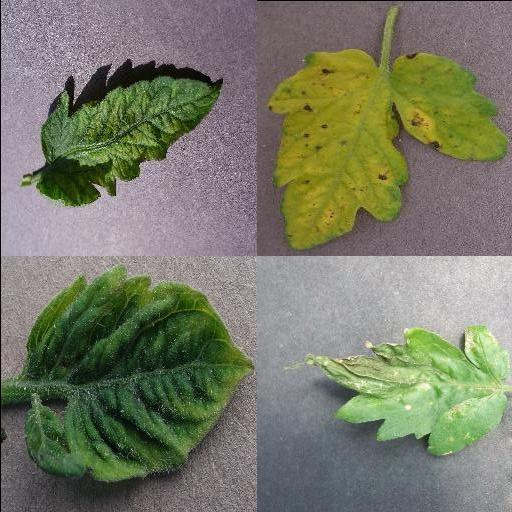Late Blight: (303, 324, 509, 458)
Mosaic Virus: (36, 75, 222, 205)
Septoria: (266, 47, 506, 251)
Yellow Leaf Curl Virus: (23, 264, 255, 486)
